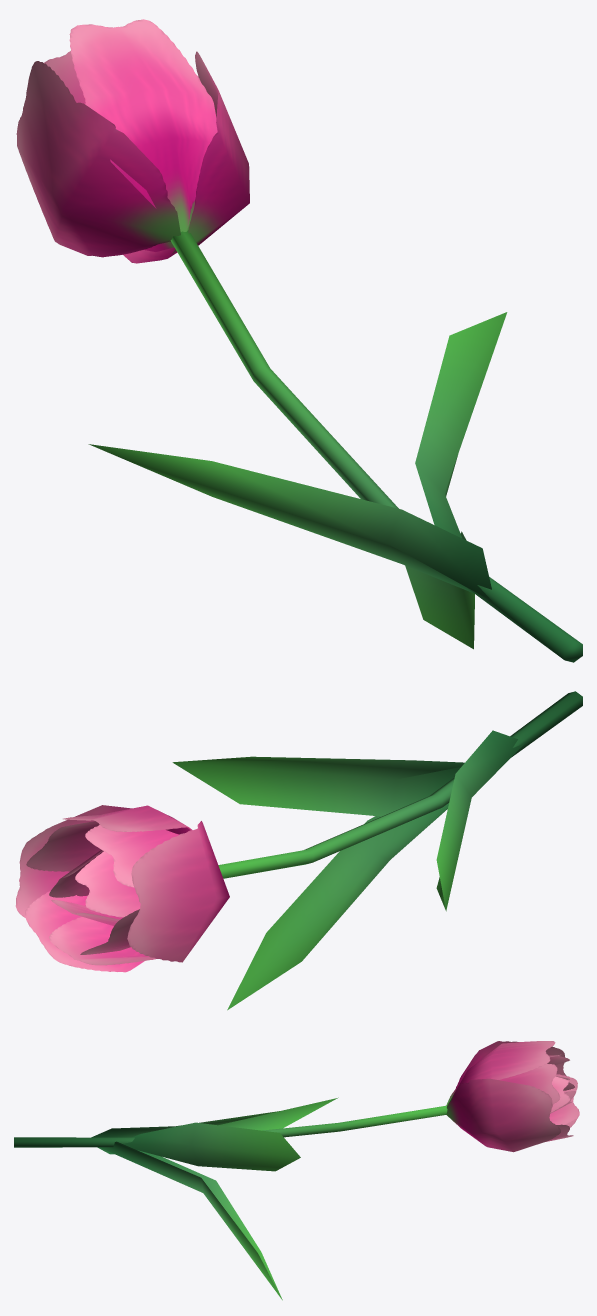
The model's file is SM_Tulip_Pink_Open.fbx.
The picture shows the model from 3 angles, top to bottom: view 1: azimuth 30°, elevation 25°; view 2: azimuth 150°, elevation 25°; view 3: azimuth 270°, elevation 25°; orthographic projection. The views are drawn at different scales.
Parts seen in each view (by area): view 1: Tulip_Pink_Open; view 2: Tulip_Pink_Open; view 3: Tulip_Pink_Open.
Part boxes in pixels (x1,y1,x2,y2): Tulip_Pink_Open: (16, 19, 582, 662); Tulip_Pink_Open: (15, 691, 582, 1010); Tulip_Pink_Open: (14, 1041, 579, 1300).
Size of the model in its own units: 79.43 by 90.75 by 205.
